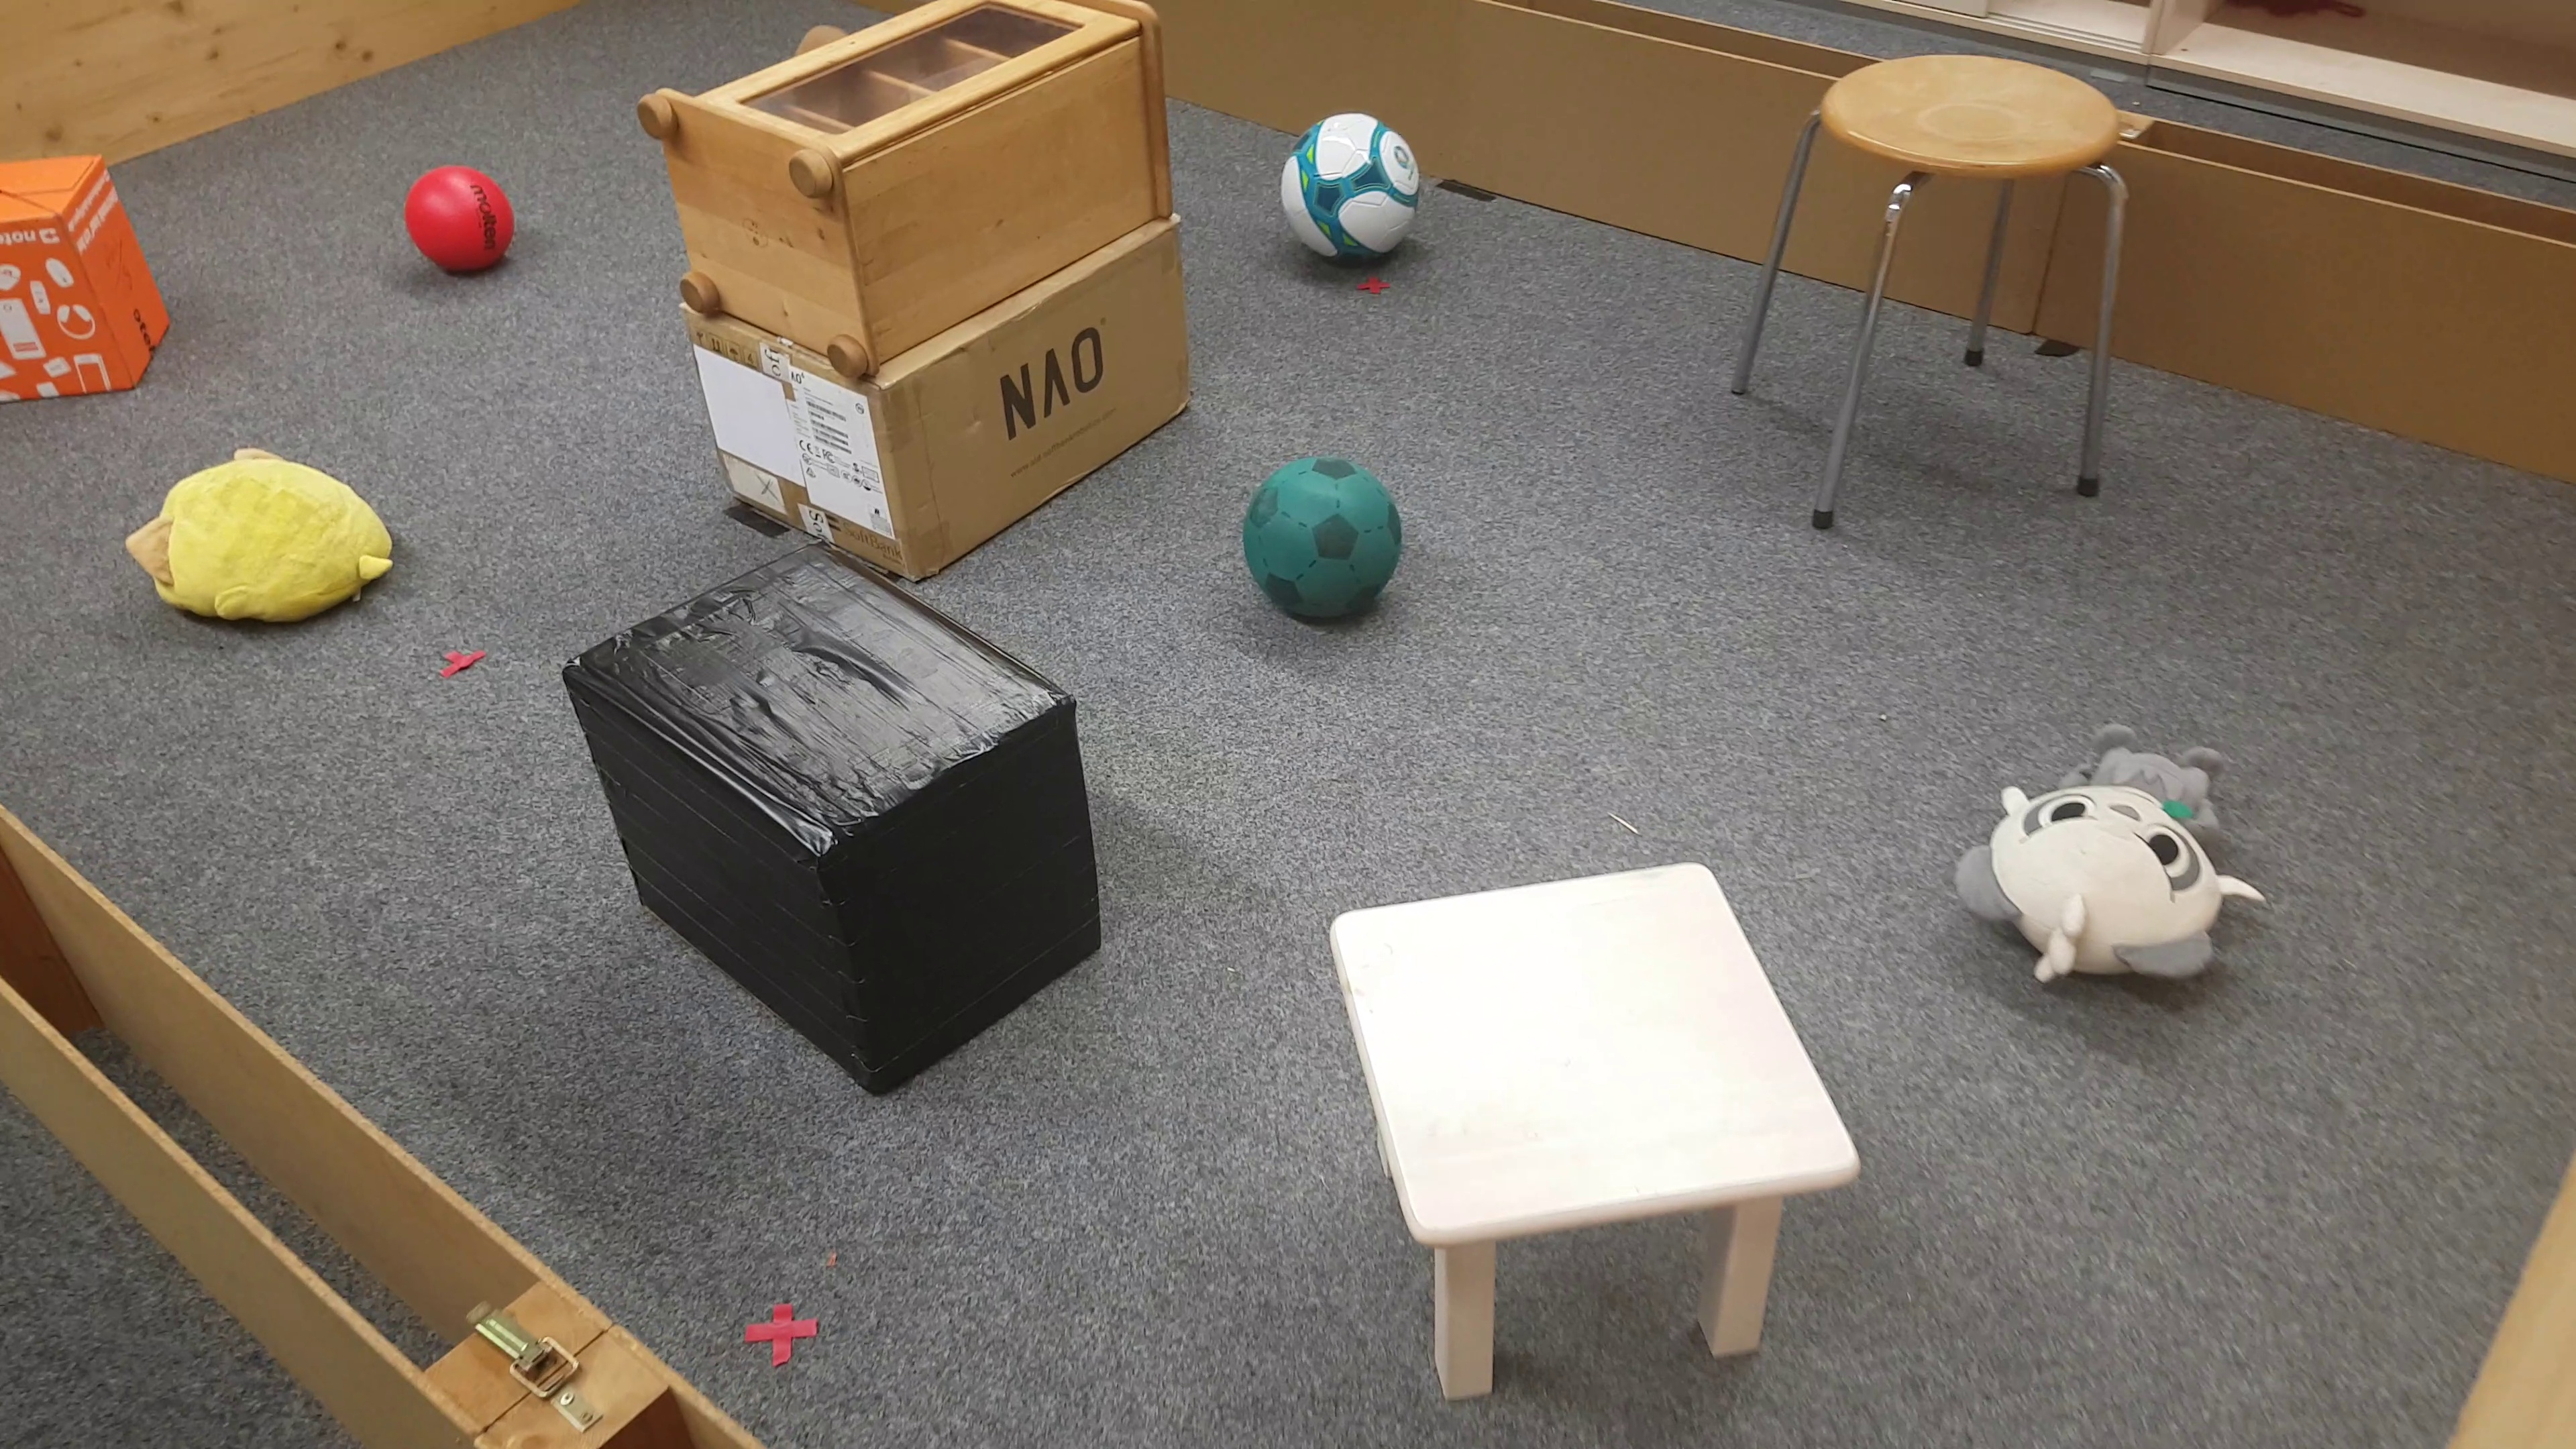grasp: (1951, 717, 2277, 1014), (129, 446, 403, 632)
kick: (1240, 458, 1407, 637), (1290, 106, 1415, 271), (409, 168, 517, 267)
push: (579, 538, 1115, 1088), (0, 152, 184, 407)
